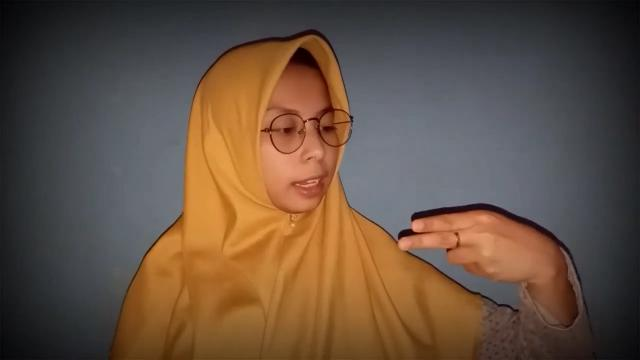H: (396, 208, 566, 282)
